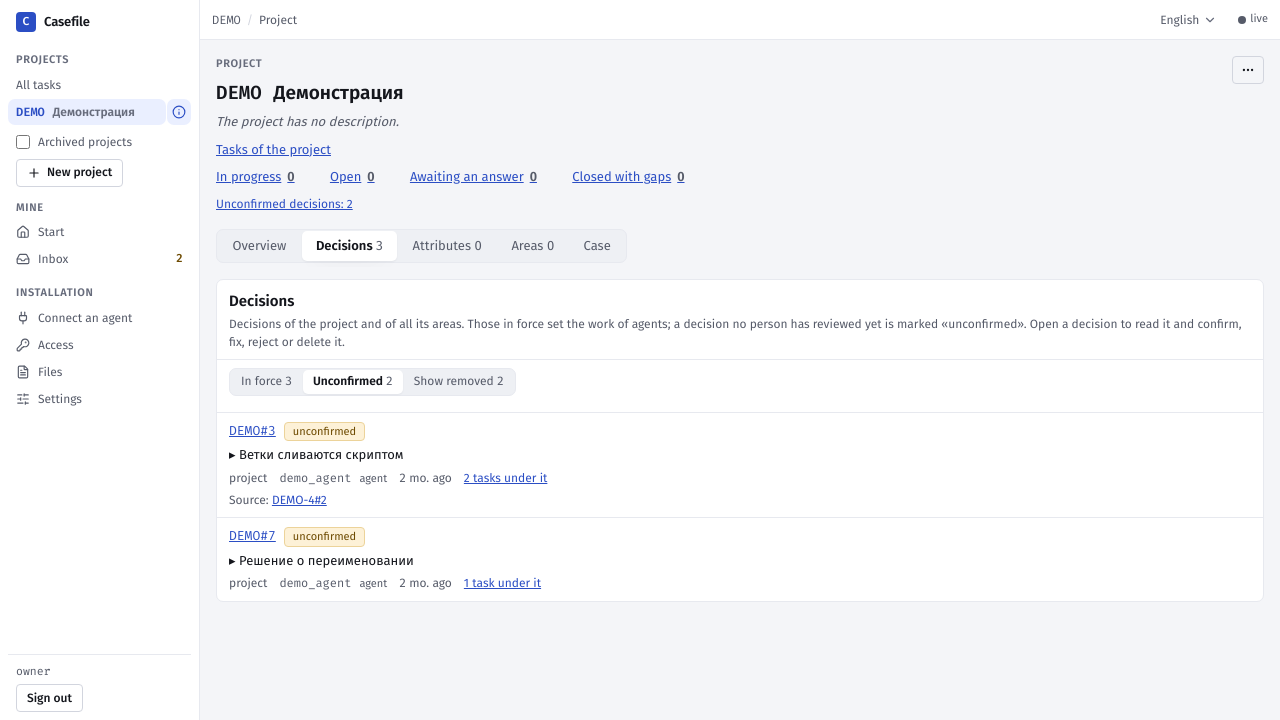
Test: вкладка «Решения» проекта › «Подтвердить» уходит сразу, без окна, и решение пропадает из отбора
Click the button "Ветки сливаются скриптом".
click(321, 455)  # box [229,445,1251,465]
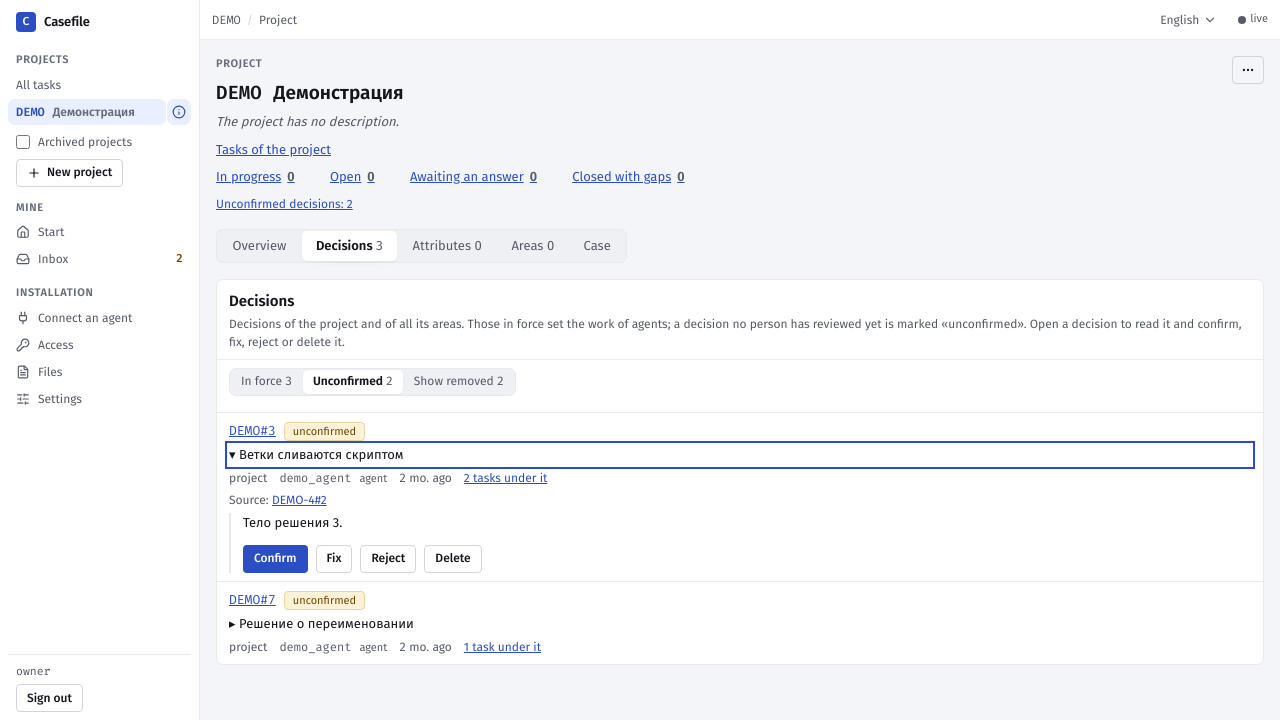
Click the button "Confirm".
click(275, 559)  # box [243,545,308,573]
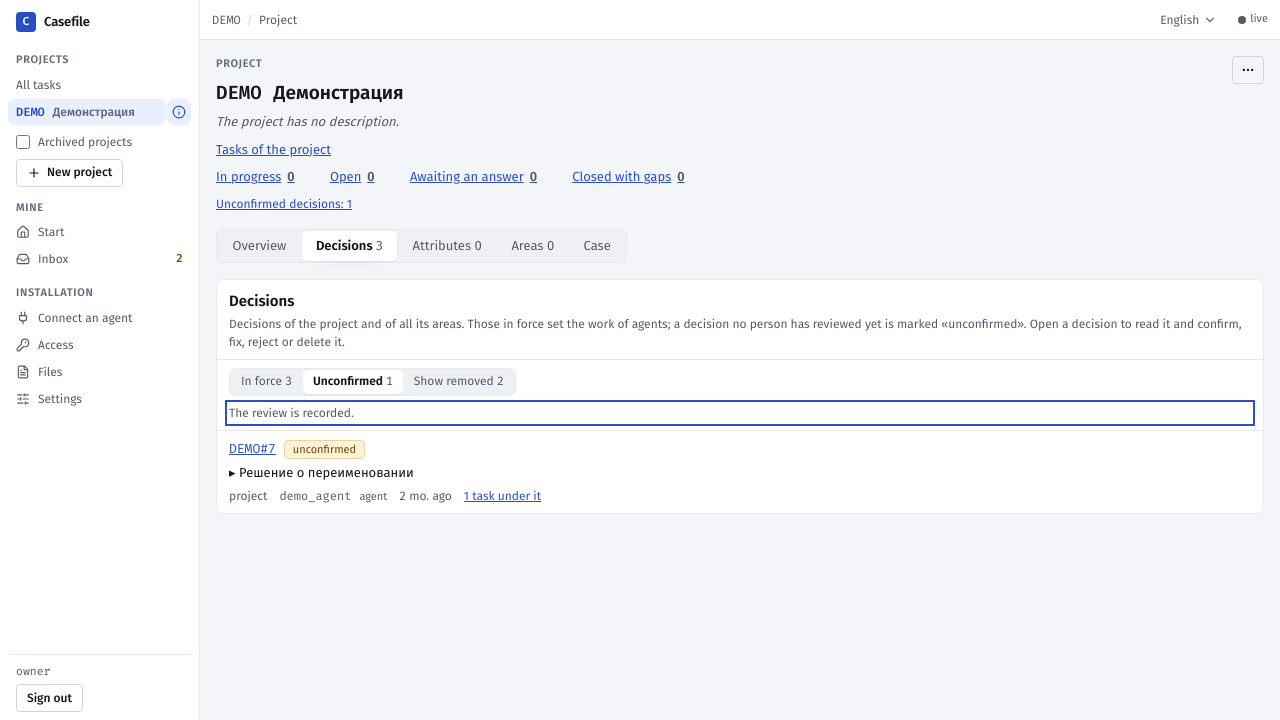
Expected: the text "The review is recorded." is shown, [229,406,354,420]
